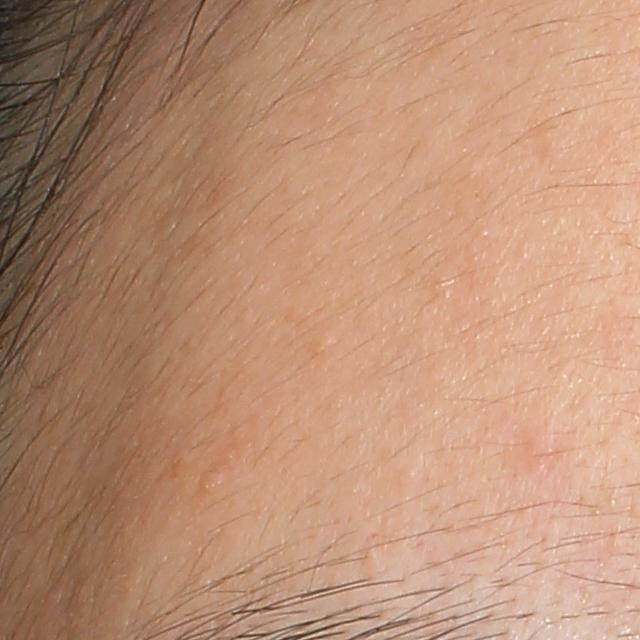comedo: (428, 275, 454, 297)
